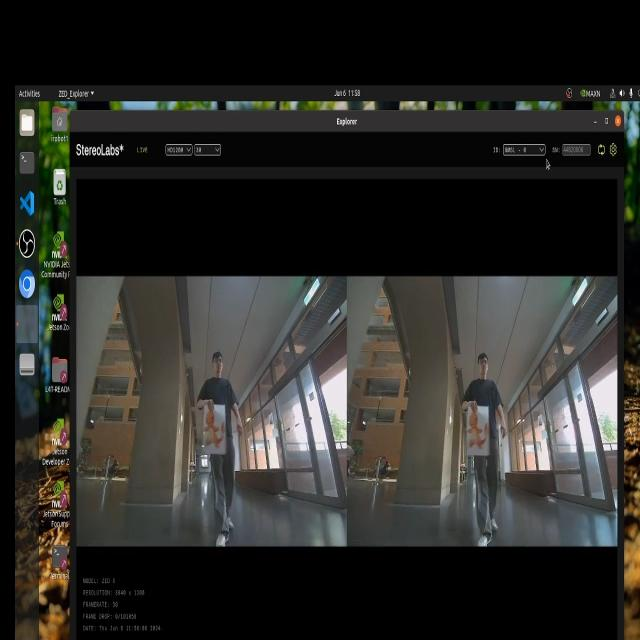red: (202, 408, 226, 461), (466, 404, 489, 459)
